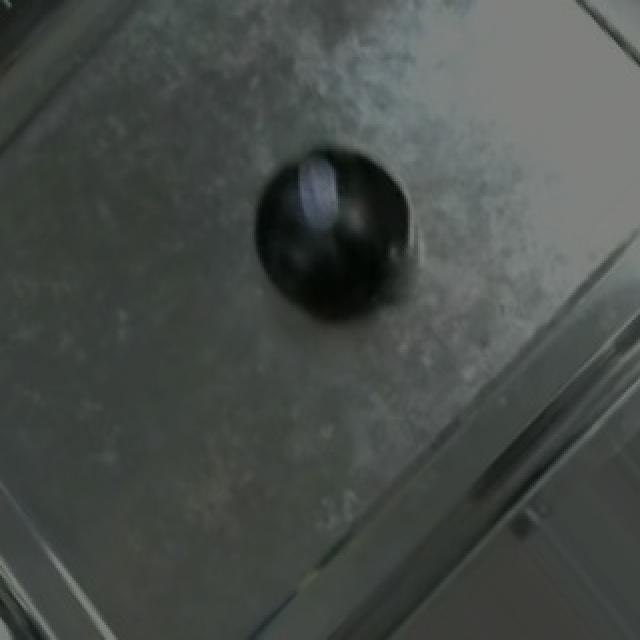Fruit: (232, 129, 434, 347)
